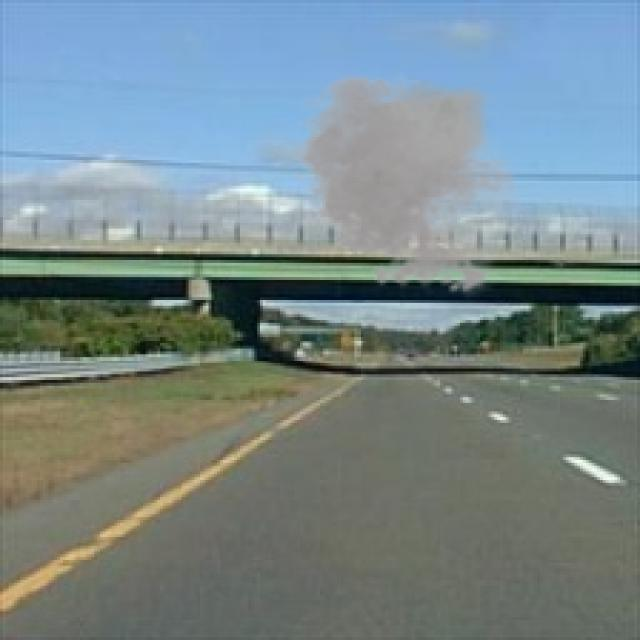Smoke: (286, 66, 528, 300)
